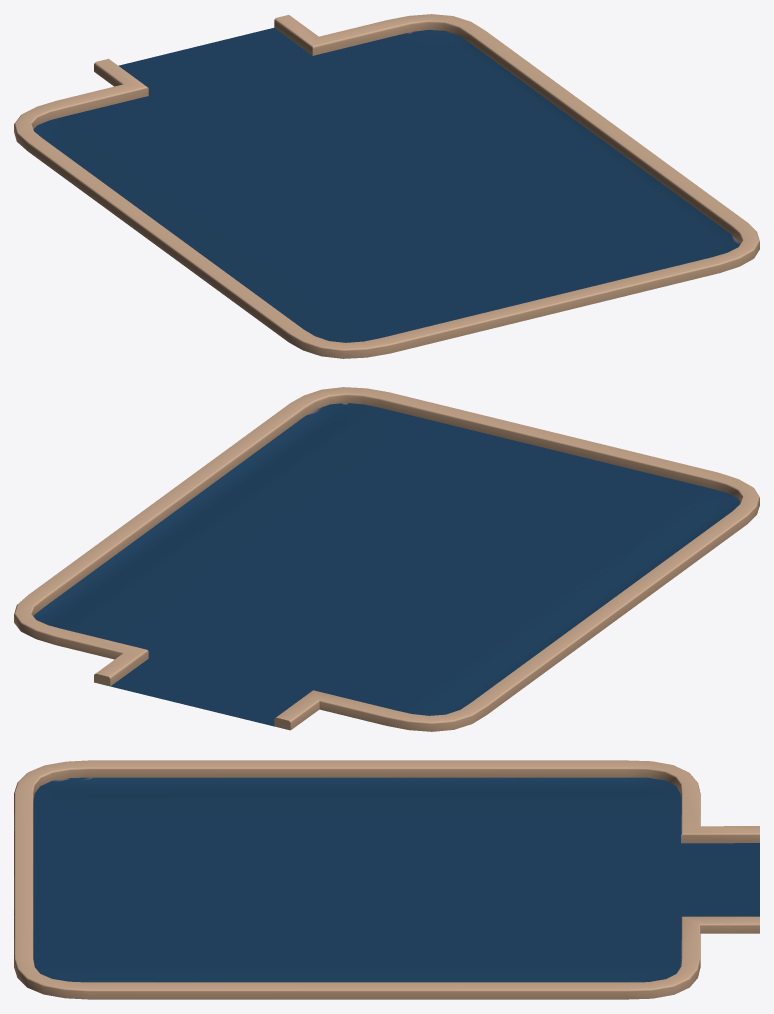
File: PokemonMonster_Landing_RoadStage3.fbx
3 renders of one model, top to bottom at view 1: azimuth 30°, elevation 25°; view 2: azimuth 150°, elevation 25°; view 3: azimuth 270°, elevation 25°, orthographic. The views are drawn at different scales.
Visible parts, largest first — view 1: Road_stage_cn; view 2: Road_stage_cn; view 3: Road_stage_cn.
Part boxes in pixels (box(x1,y1,x2,y2)): Road_stage_cn: box(14, 14, 759, 358); Road_stage_cn: box(14, 387, 759, 731); Road_stage_cn: box(14, 760, 759, 999).
Bounding box in the file's own units: 1400 × 37.08 × 1917.
1 material, 1 textured.
